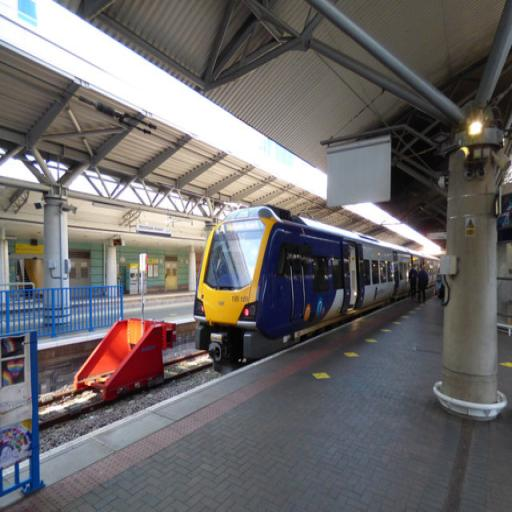platform_edge: (140, 316, 402, 414)
